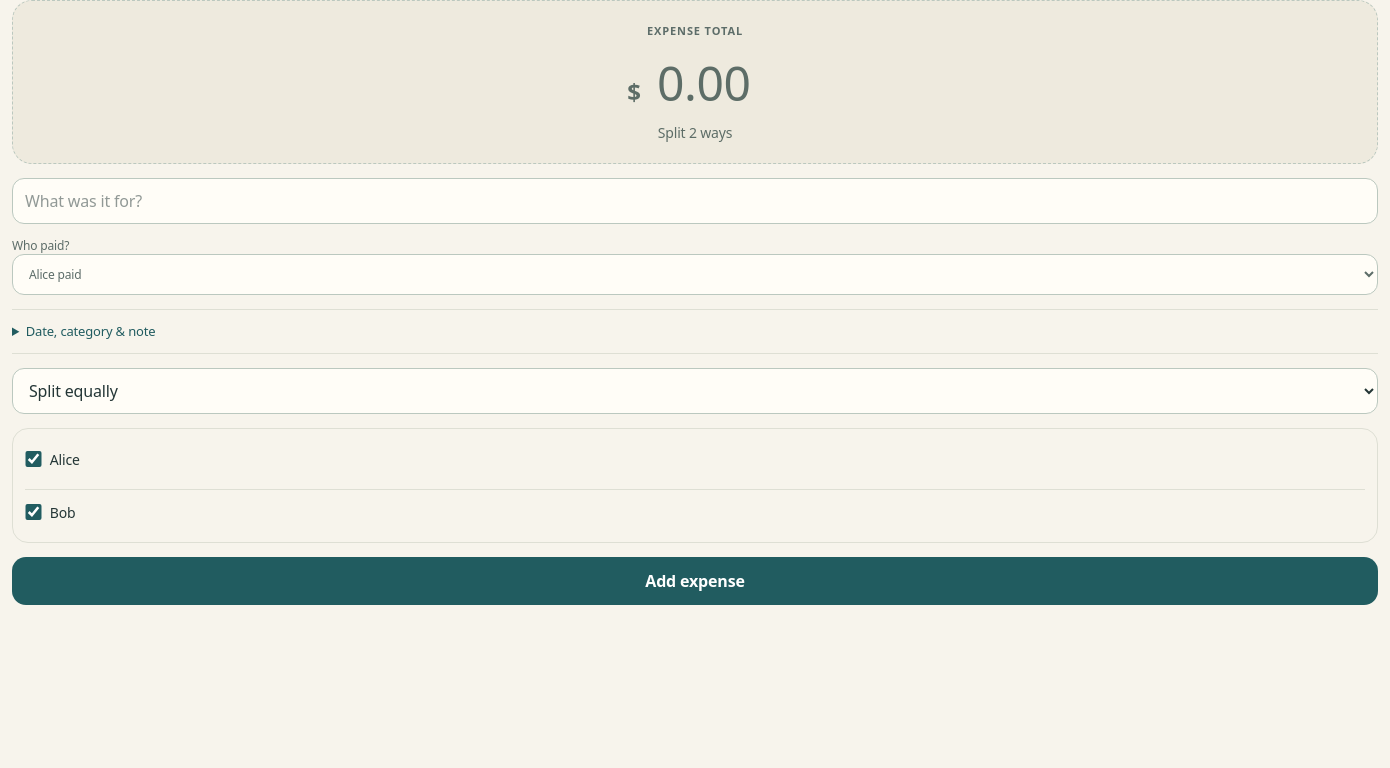
Test case: what it refuses to send › rejects an amount that is not one
This screenshot has width=1390, height=768.
Type "Dinner" into the field named "What the expense was for". click: (695, 200)
box: x1=12 y1=178 x2=1378 y2=224
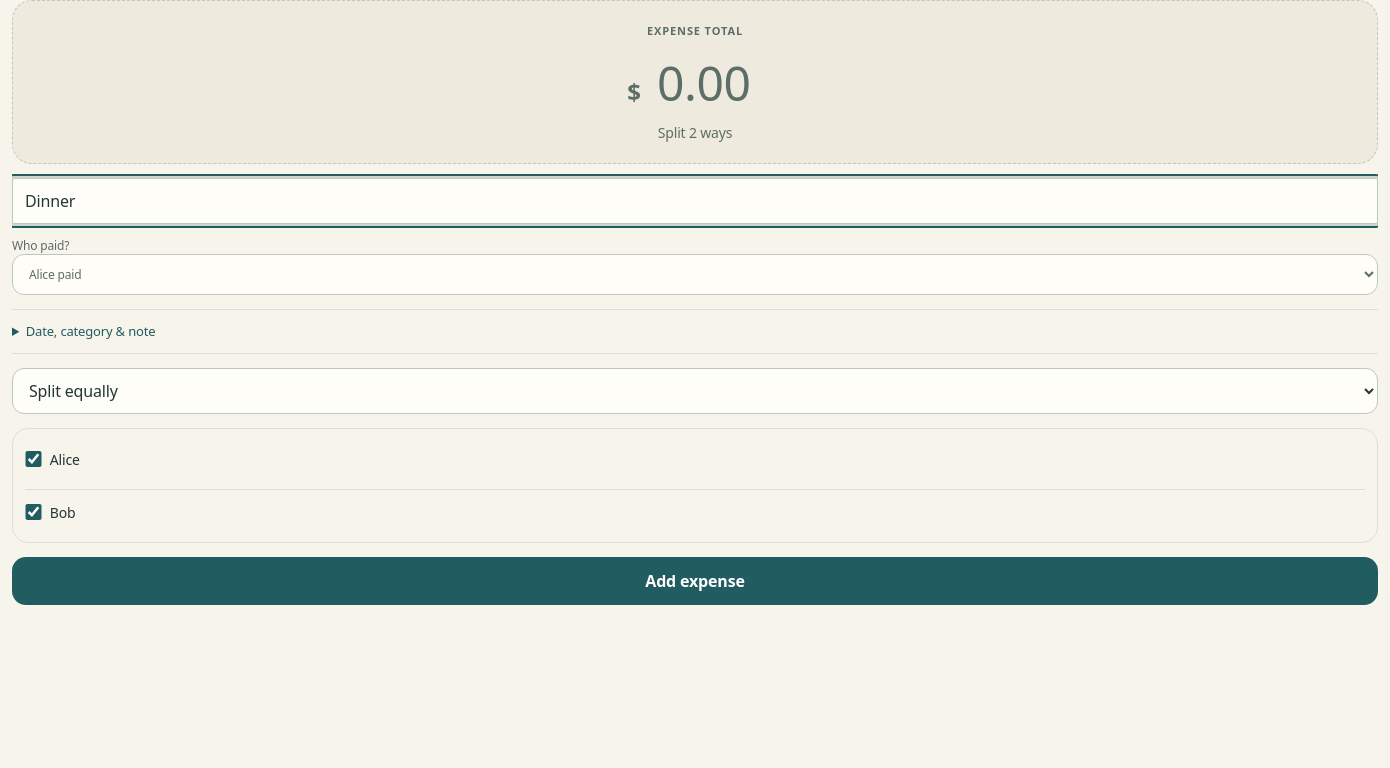
Type "twelve" into the field named "Amount". click: (704, 82)
box: x1=645 y1=50 x2=763 y2=114
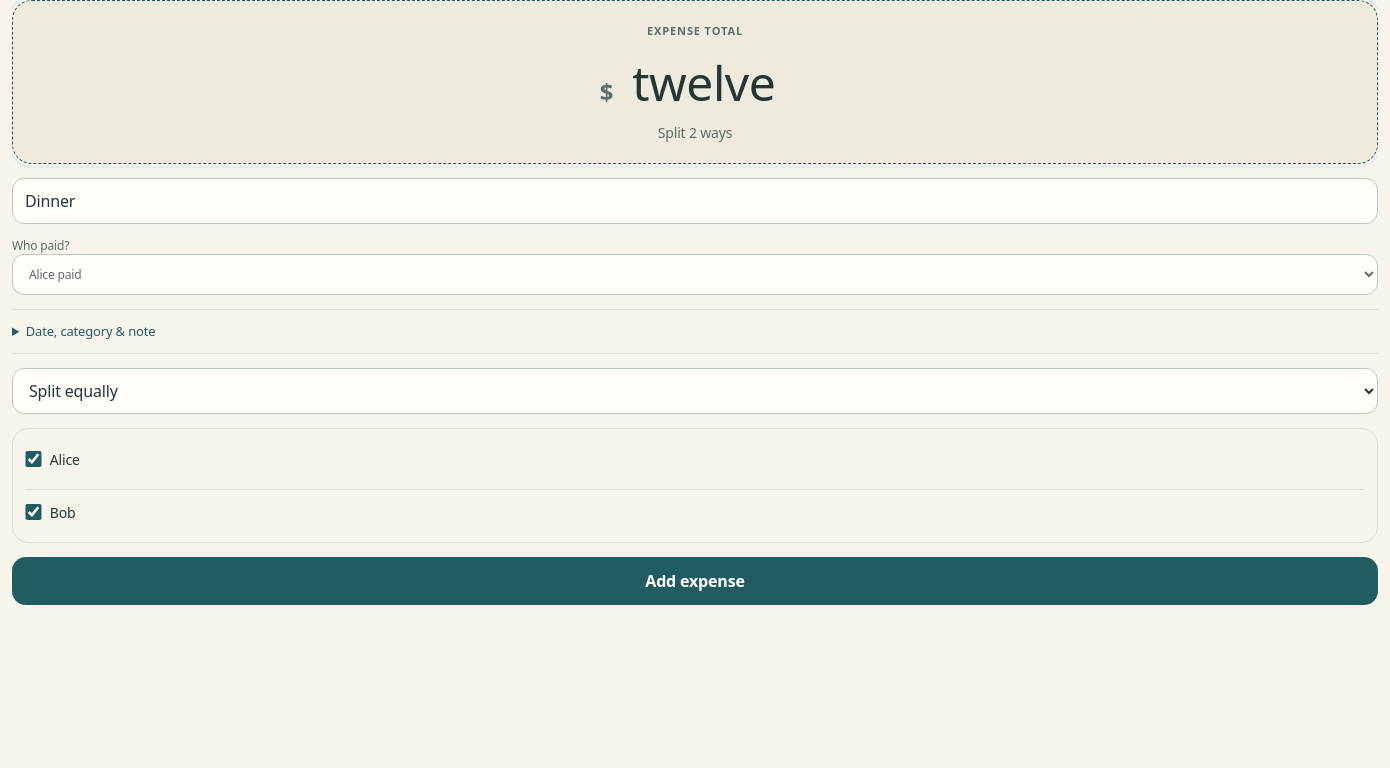
Click the button "Add expense". click: (695, 581)
box: x1=12 y1=557 x2=1378 y2=605
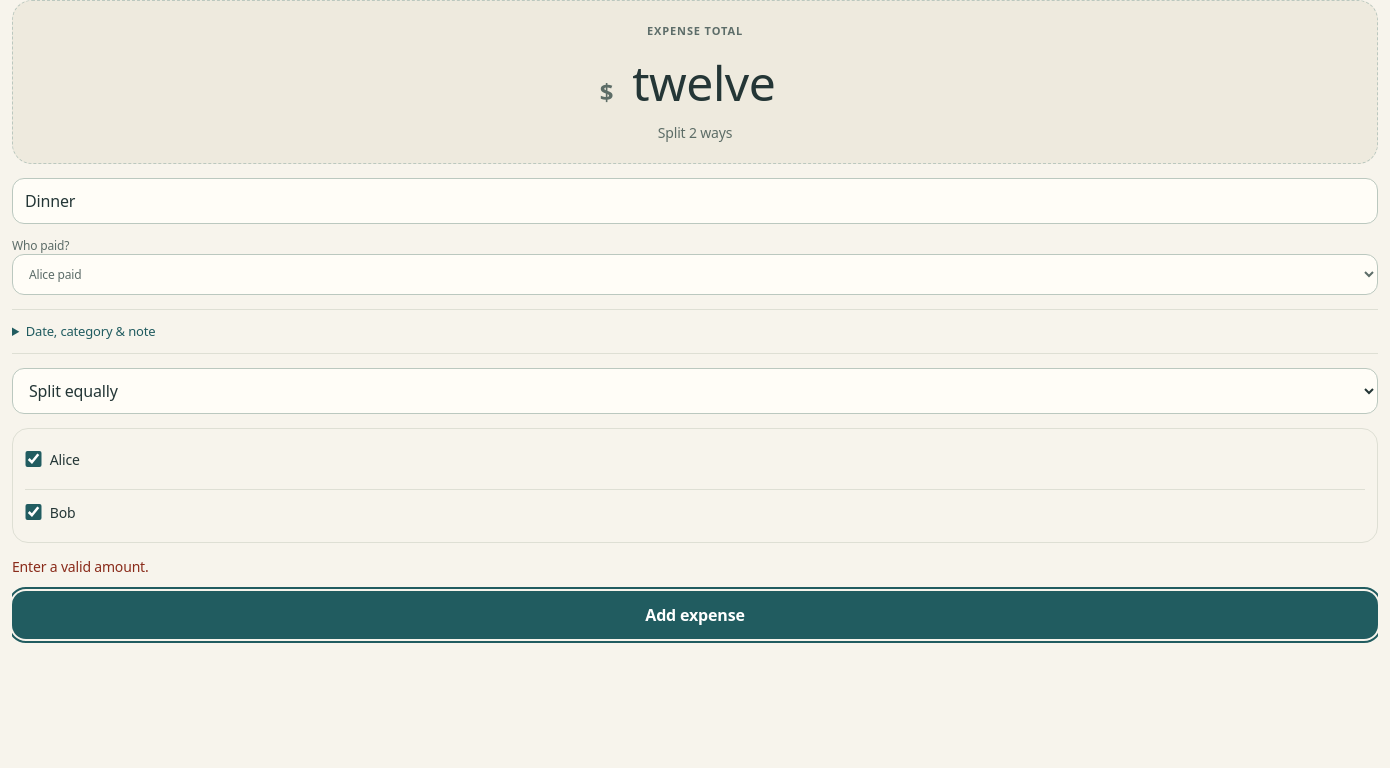
Expected: the message reads "Enter a valid amount.", x1=12 y1=557 x2=149 y2=576
